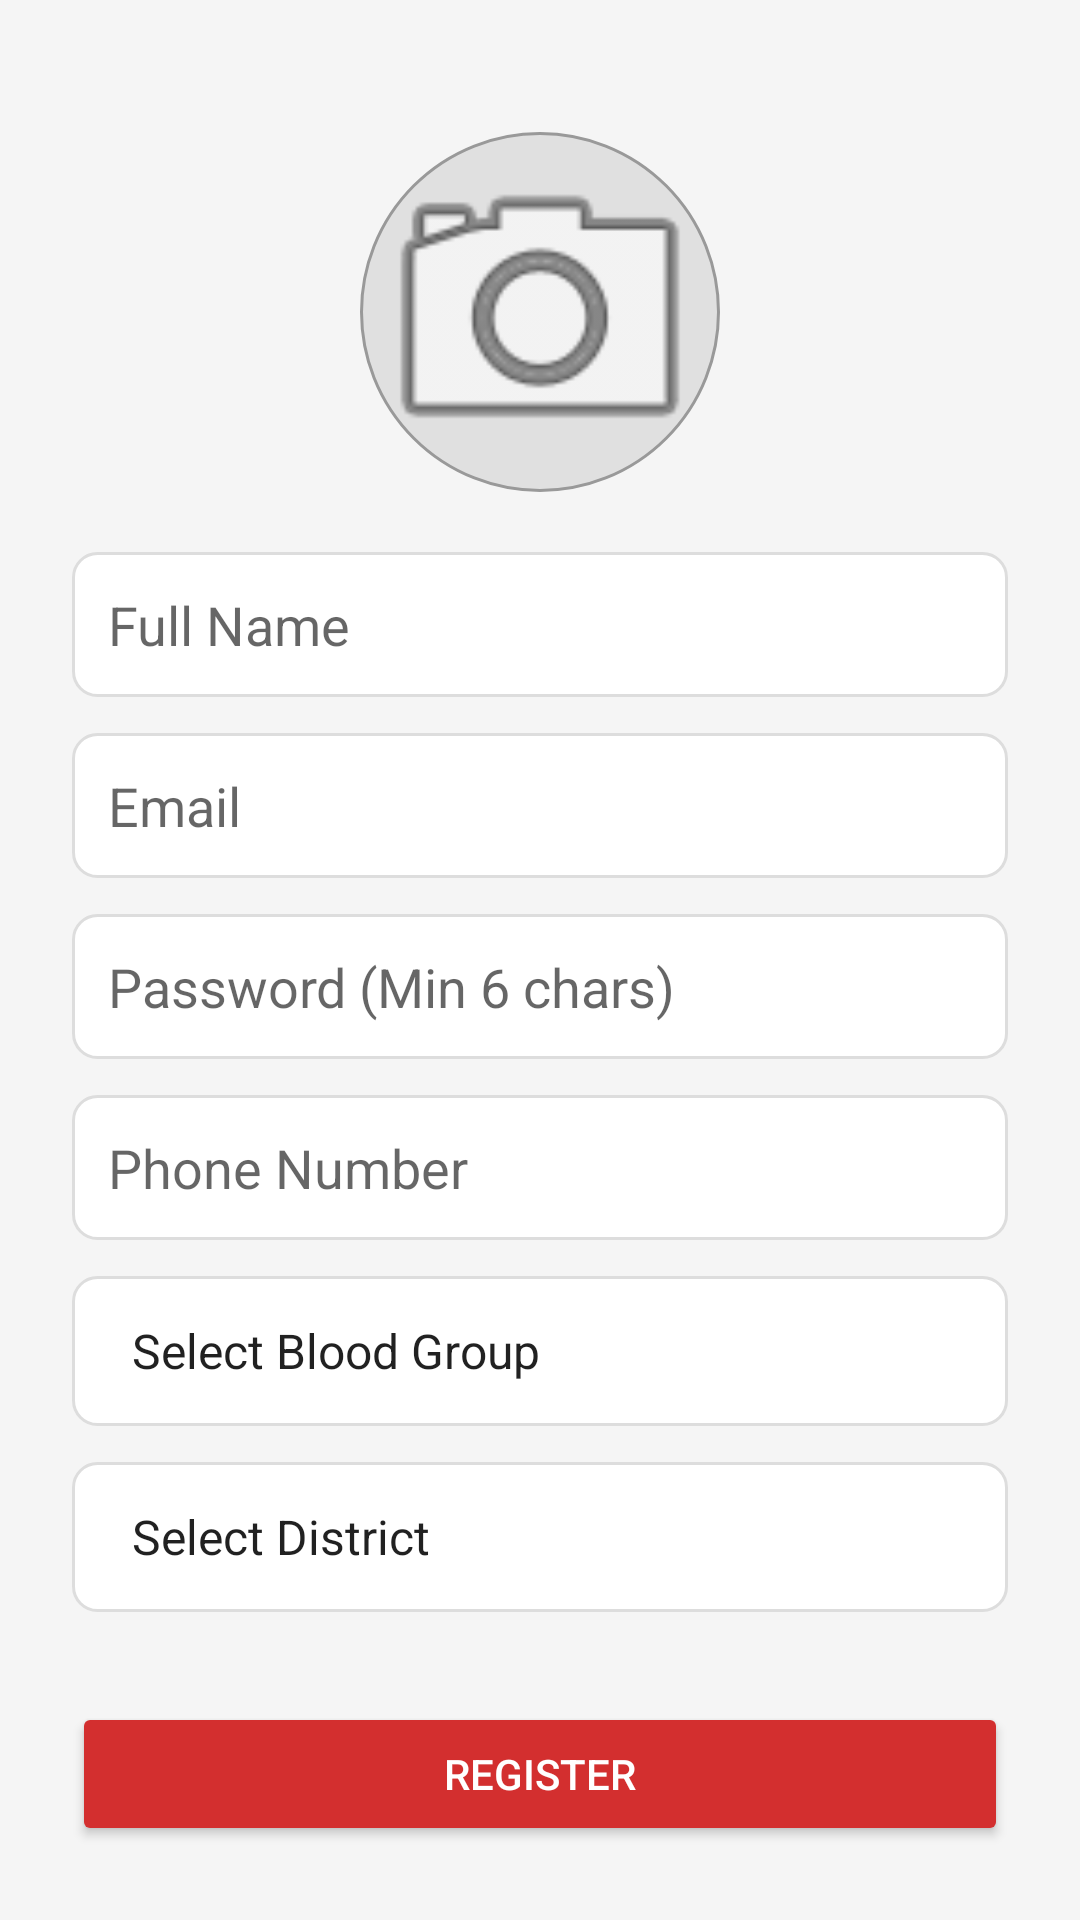

Named icons in this screenshot (1080×1920) and their centers, (x,y):
camera: (540,312)
